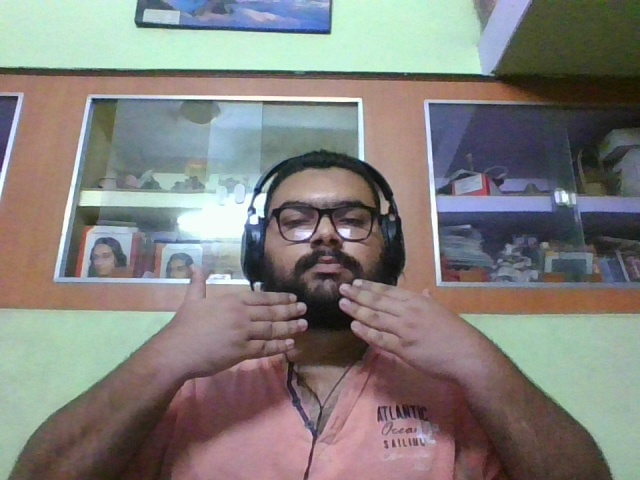thankyou: (153, 262, 487, 395)
